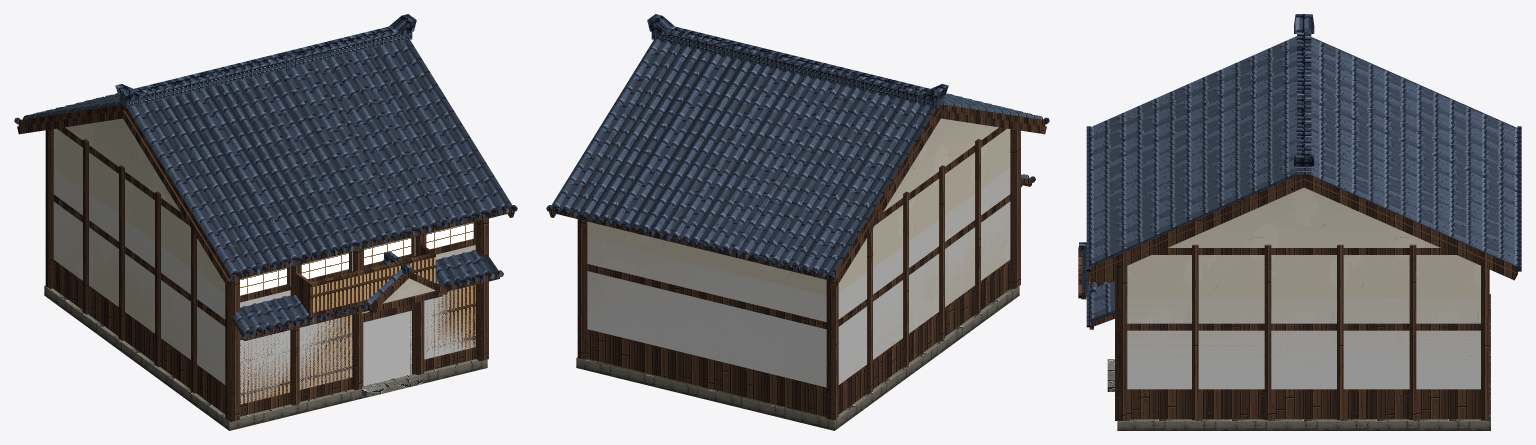
File: JP_Mid_Townhouse_B.glb
3 renders of one model, left to right at view 1: azimuth 30°, elevation 25°; view 2: azimuth 150°, elevation 25°; view 3: azimuth 270°, elevation 25°, orthographic.
Visible parts, largest first — view 1: JP_Mid_Townhouse_B, COL_JP_Mid_Townhouse_B; view 2: JP_Mid_Townhouse_B, COL_JP_Mid_Townhouse_B; view 3: JP_Mid_Townhouse_B, COL_JP_Mid_Townhouse_B.
Boxes of the visible parts, x1=… form: JP_Mid_Townhouse_B: x1=14, y1=14, x2=517, y2=430; COL_JP_Mid_Townhouse_B: x1=53, y1=168, x2=475, y2=403; JP_Mid_Townhouse_B: x1=546, y1=14, x2=1049, y2=430; COL_JP_Mid_Townhouse_B: x1=587, y1=168, x2=1010, y2=387; JP_Mid_Townhouse_B: x1=1078, y1=14, x2=1521, y2=430; COL_JP_Mid_Townhouse_B: x1=1127, y1=297, x2=1480, y2=389.
Bounding box in the file's own units: 9.42 × 8.56 × 12.23.
11 materials, 11 textured.
